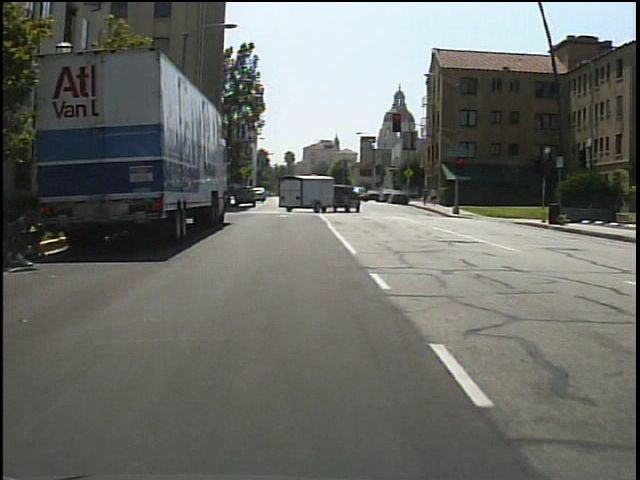person: (430, 184, 442, 210), (421, 185, 431, 208)
